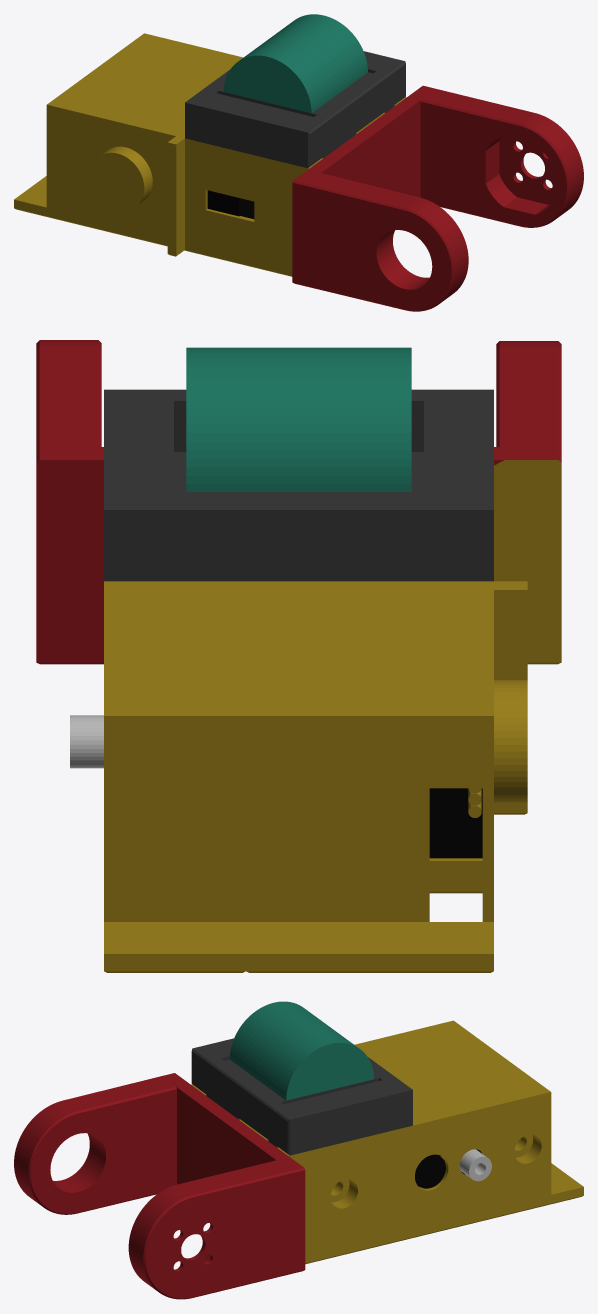
The model's file is finger_link221.dae.
The picture shows the model from 3 angles, top to bottom: view 1: azimuth 30°, elevation 25°; view 2: azimuth 150°, elevation 25°; view 3: azimuth 270°, elevation 25°; orthographic projection. The views are drawn at different scales.
Parts seen in each view (by area): view 1: finger_link221.001; view 2: finger_link221.001; view 3: finger_link221.001.
Part boxes in pixels (x1,y1,x2,y2): finger_link221.001: [14, 14, 583, 311]; finger_link221.001: [36, 340, 561, 972]; finger_link221.001: [14, 1001, 583, 1299].
Size of the model in its own units: 81.78 by 101 by 38.14.
